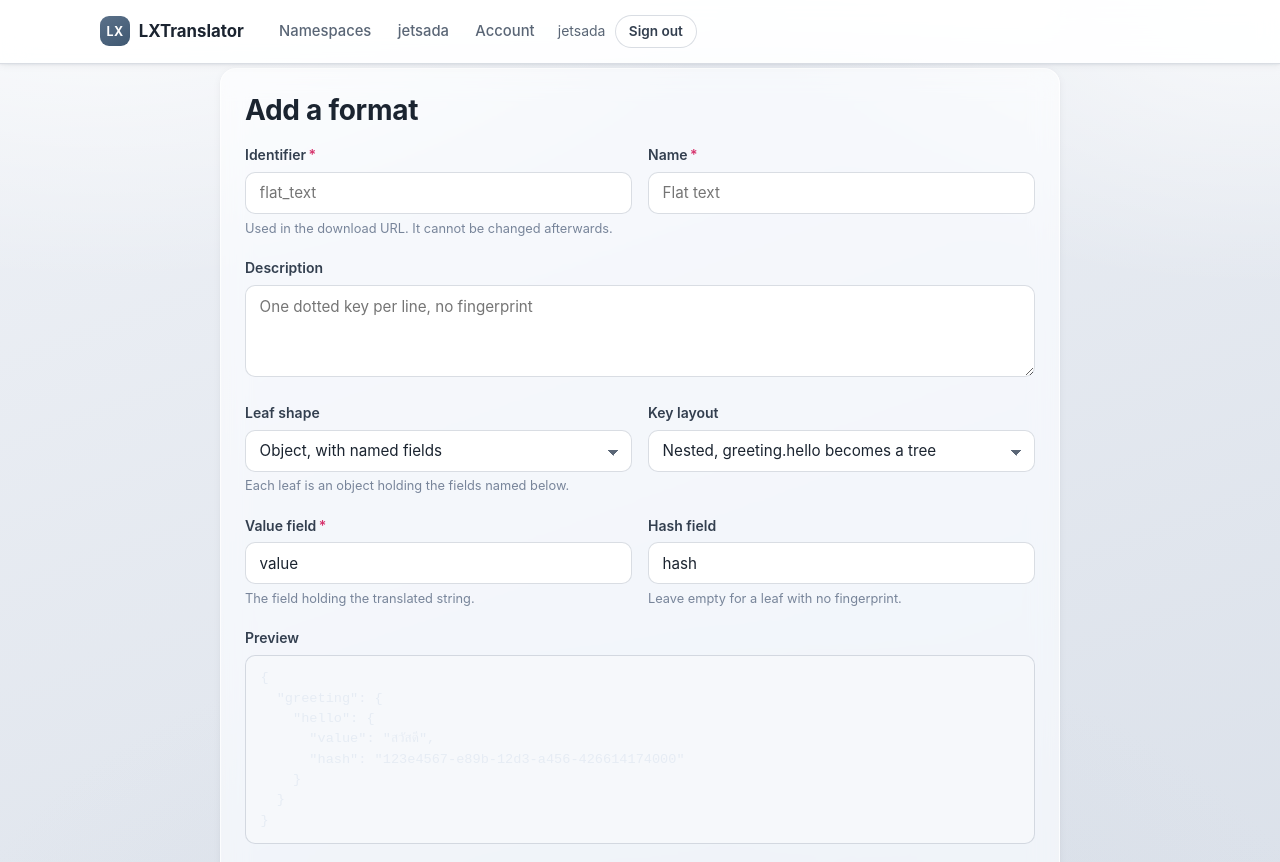
Test: export formats › managing them › hides the field names when a string leaf is chosen
This screenshot has width=1280, height=862.
(page scrolled)
Expected: the field labelled "Value field*" is shown, [245, 542, 632, 584]
Select "String, the translated text itself" in the dropdown labelled "Leaf shape" at (438, 451), box [245, 430, 632, 472]
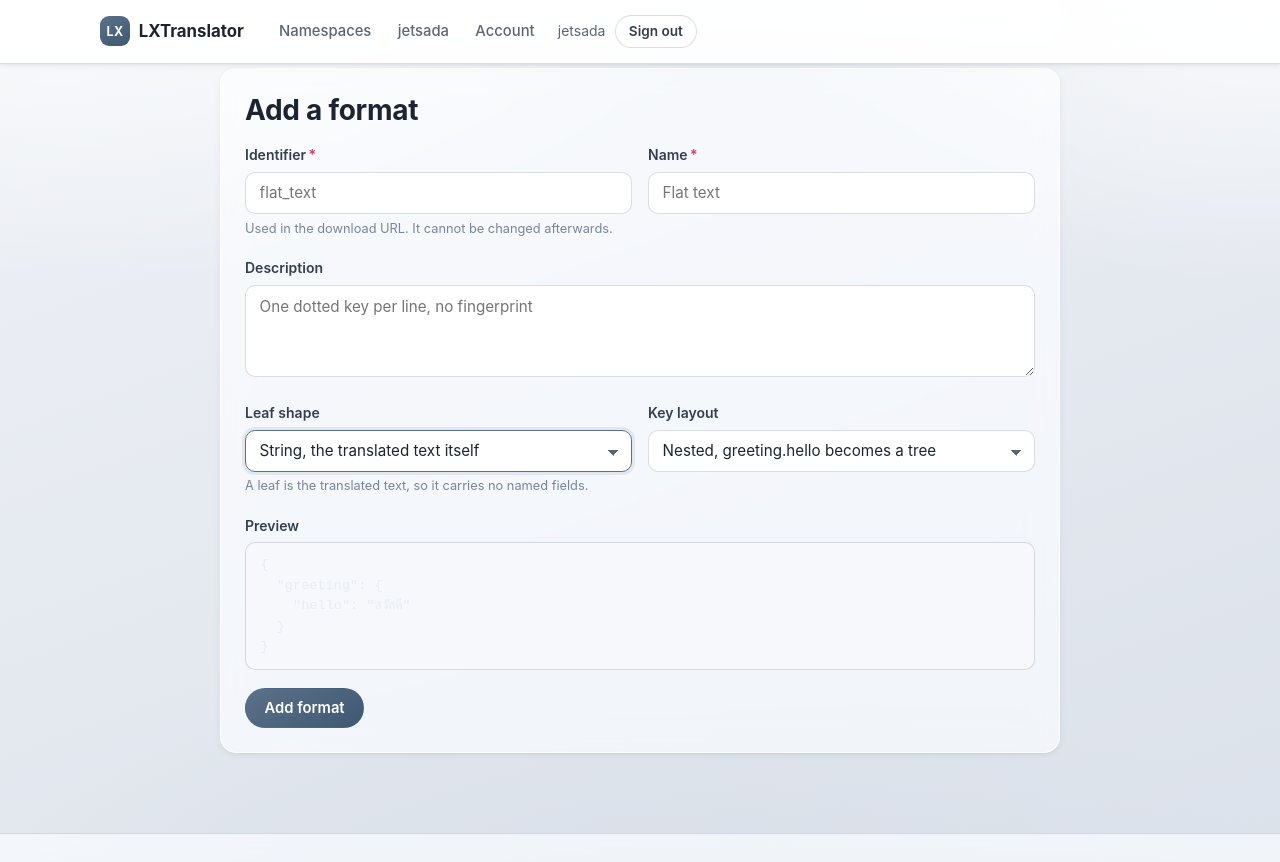
Expected: the label labelled "Value field" is gone
